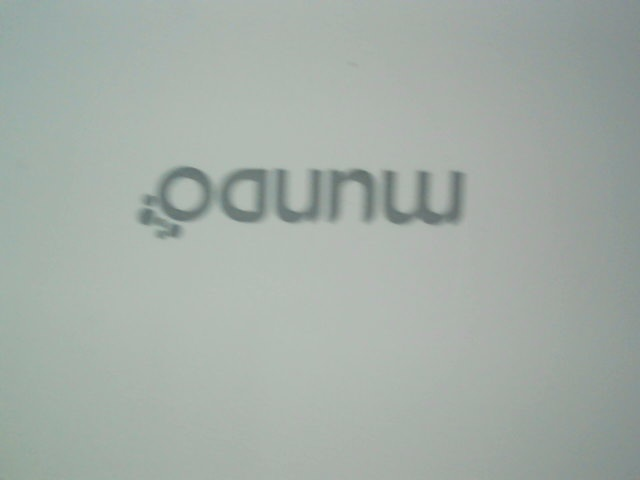BI_MUNDO: (131, 155, 469, 244)
